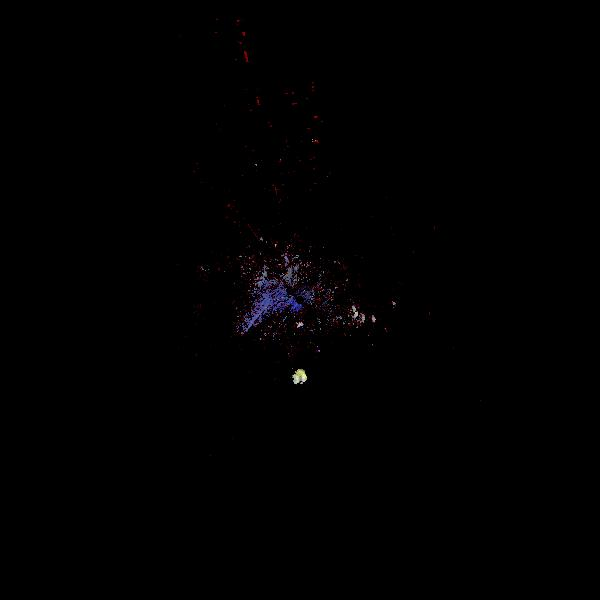roost: (290, 366, 311, 387), (351, 310, 360, 319)
